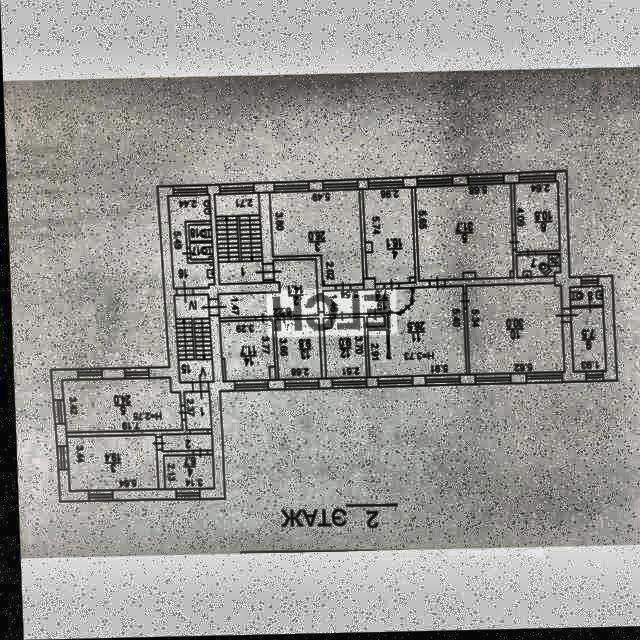room: (414, 187, 511, 283), (268, 191, 361, 289), (364, 289, 463, 380), (464, 286, 561, 378), (60, 379, 178, 433), (216, 261, 315, 319), (64, 437, 154, 492), (362, 190, 412, 286), (166, 194, 213, 291), (213, 194, 261, 287), (172, 294, 210, 385), (218, 321, 272, 383), (513, 186, 557, 255), (274, 321, 318, 382), (321, 319, 363, 381), (321, 291, 409, 316), (569, 311, 603, 375), (161, 457, 209, 491), (182, 393, 209, 432), (158, 434, 209, 454), (515, 257, 558, 280), (568, 290, 600, 309), (189, 245, 211, 260), (188, 227, 210, 242), (365, 319, 382, 329)
